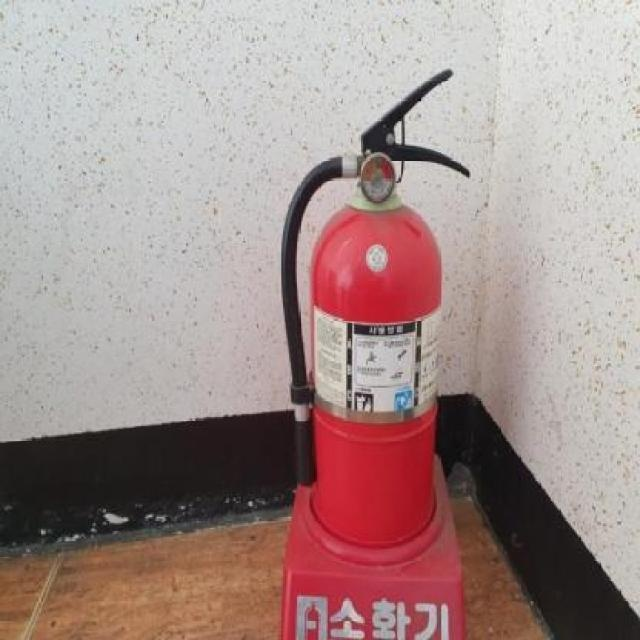fire extinguisher: (279, 69, 470, 548)
